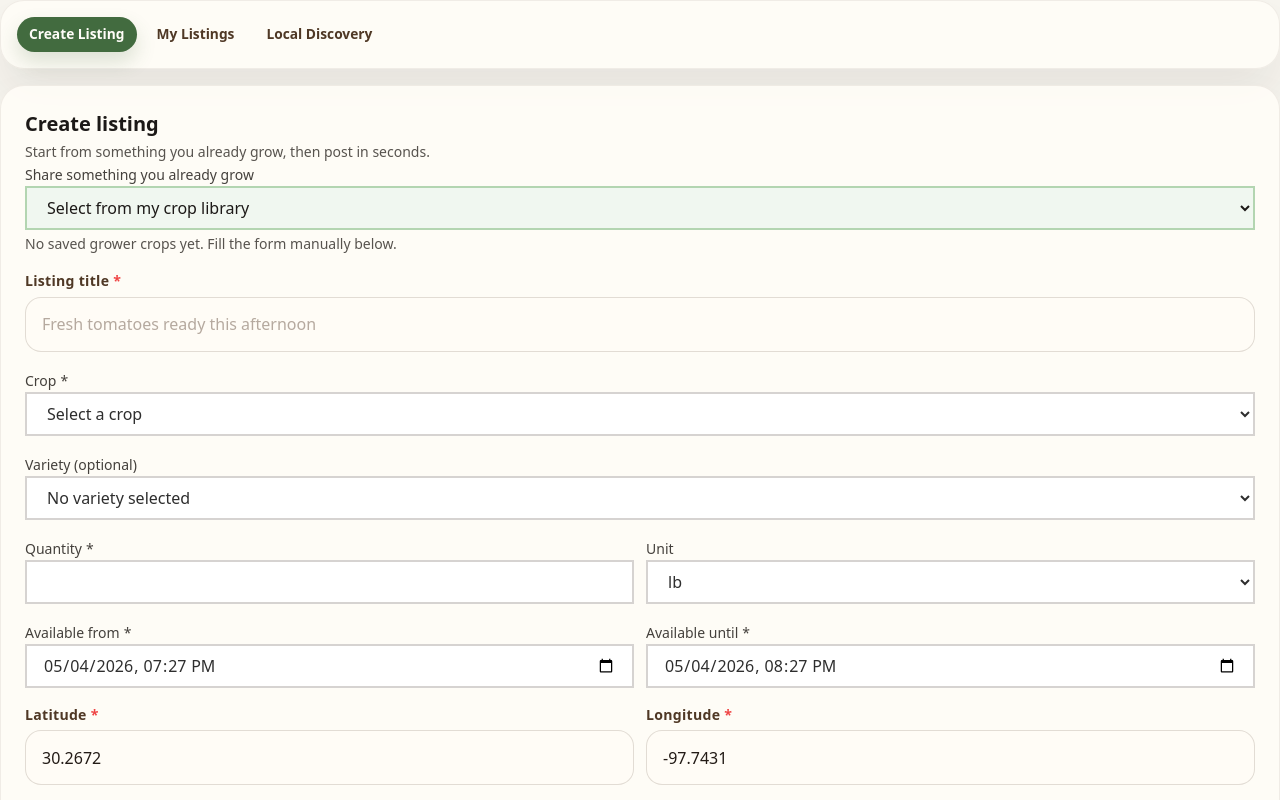
Test: GrowerListingPanel › shows grower claim transitions and confirms pending claims
Click the tab "My Listings" at (195, 34), box left=144, top=17, right=246, bottom=52
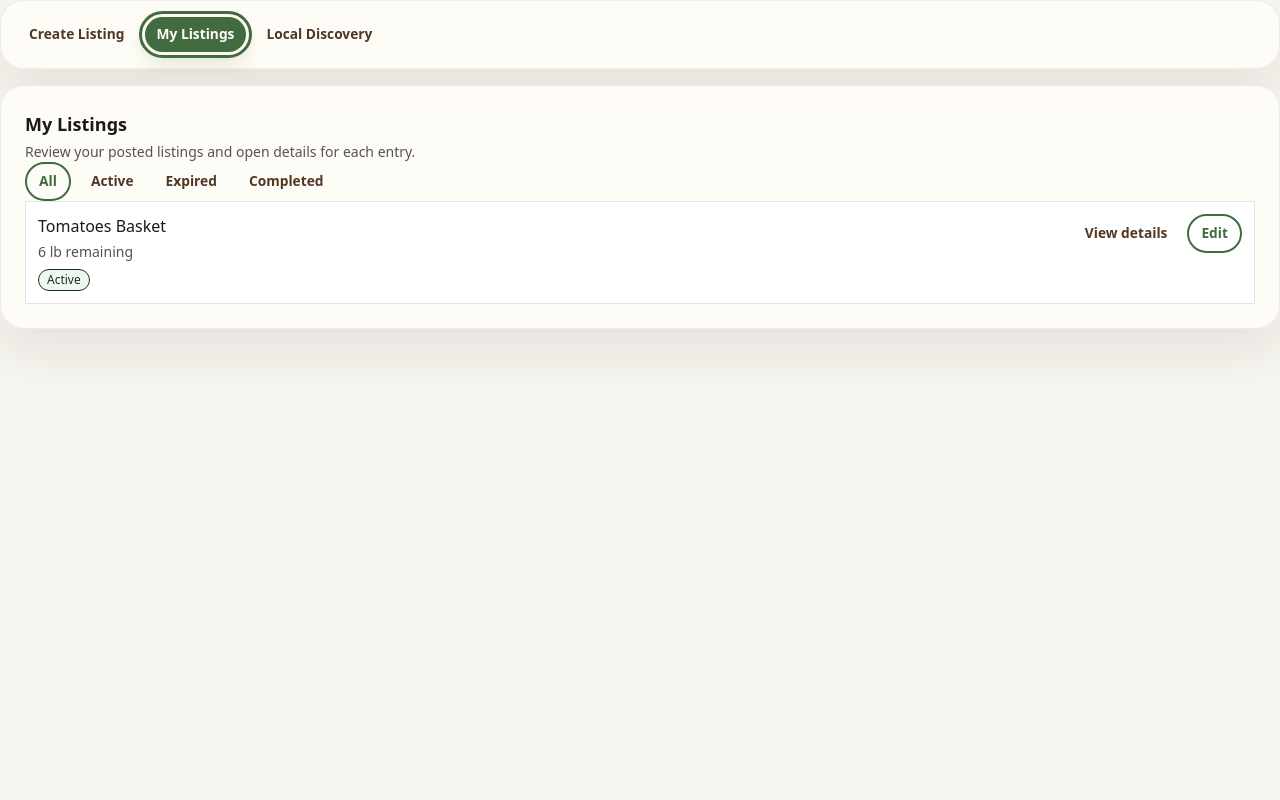
Now the text "Tomatoes Basket" is shown, box left=38, top=214, right=166, bottom=238
Click the button "View details" at (1126, 234), box left=1073, top=214, right=1180, bottom=253
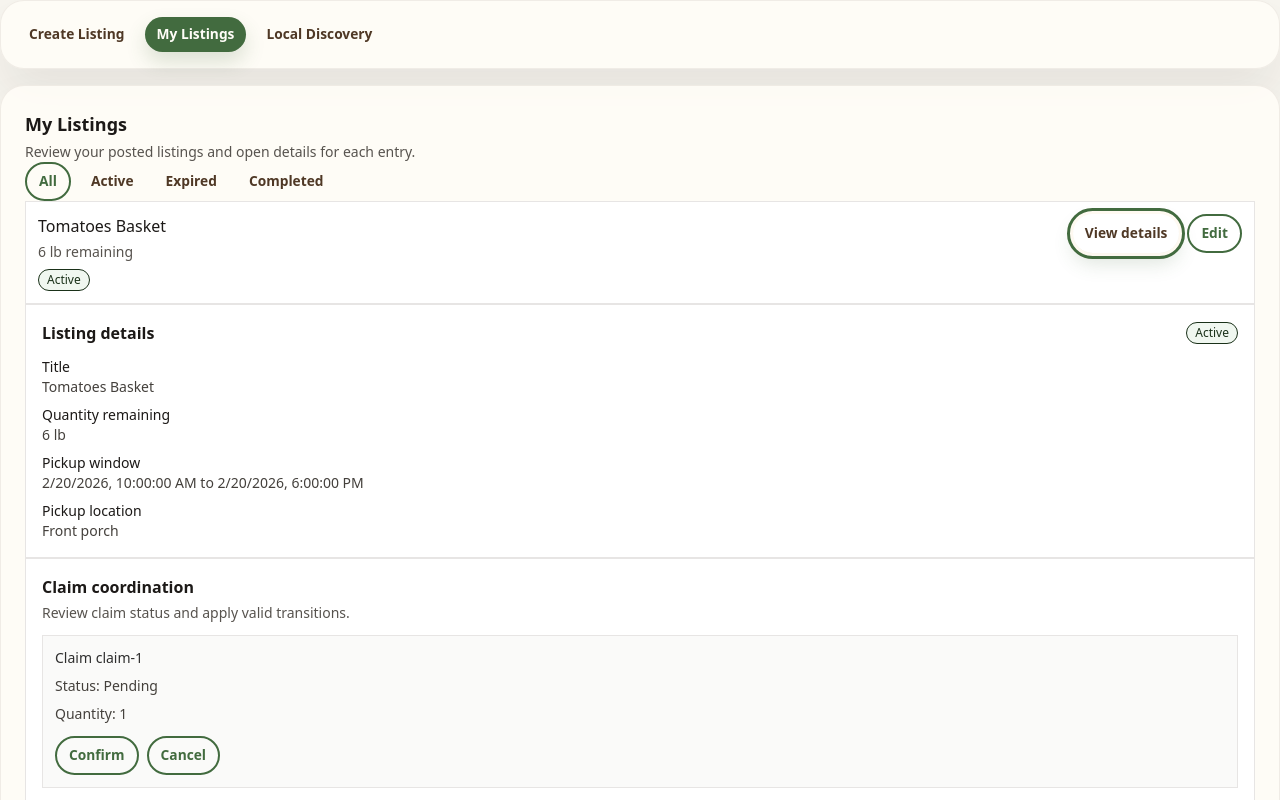
Now the button "Confirm" is shown, box left=55, top=736, right=139, bottom=775
